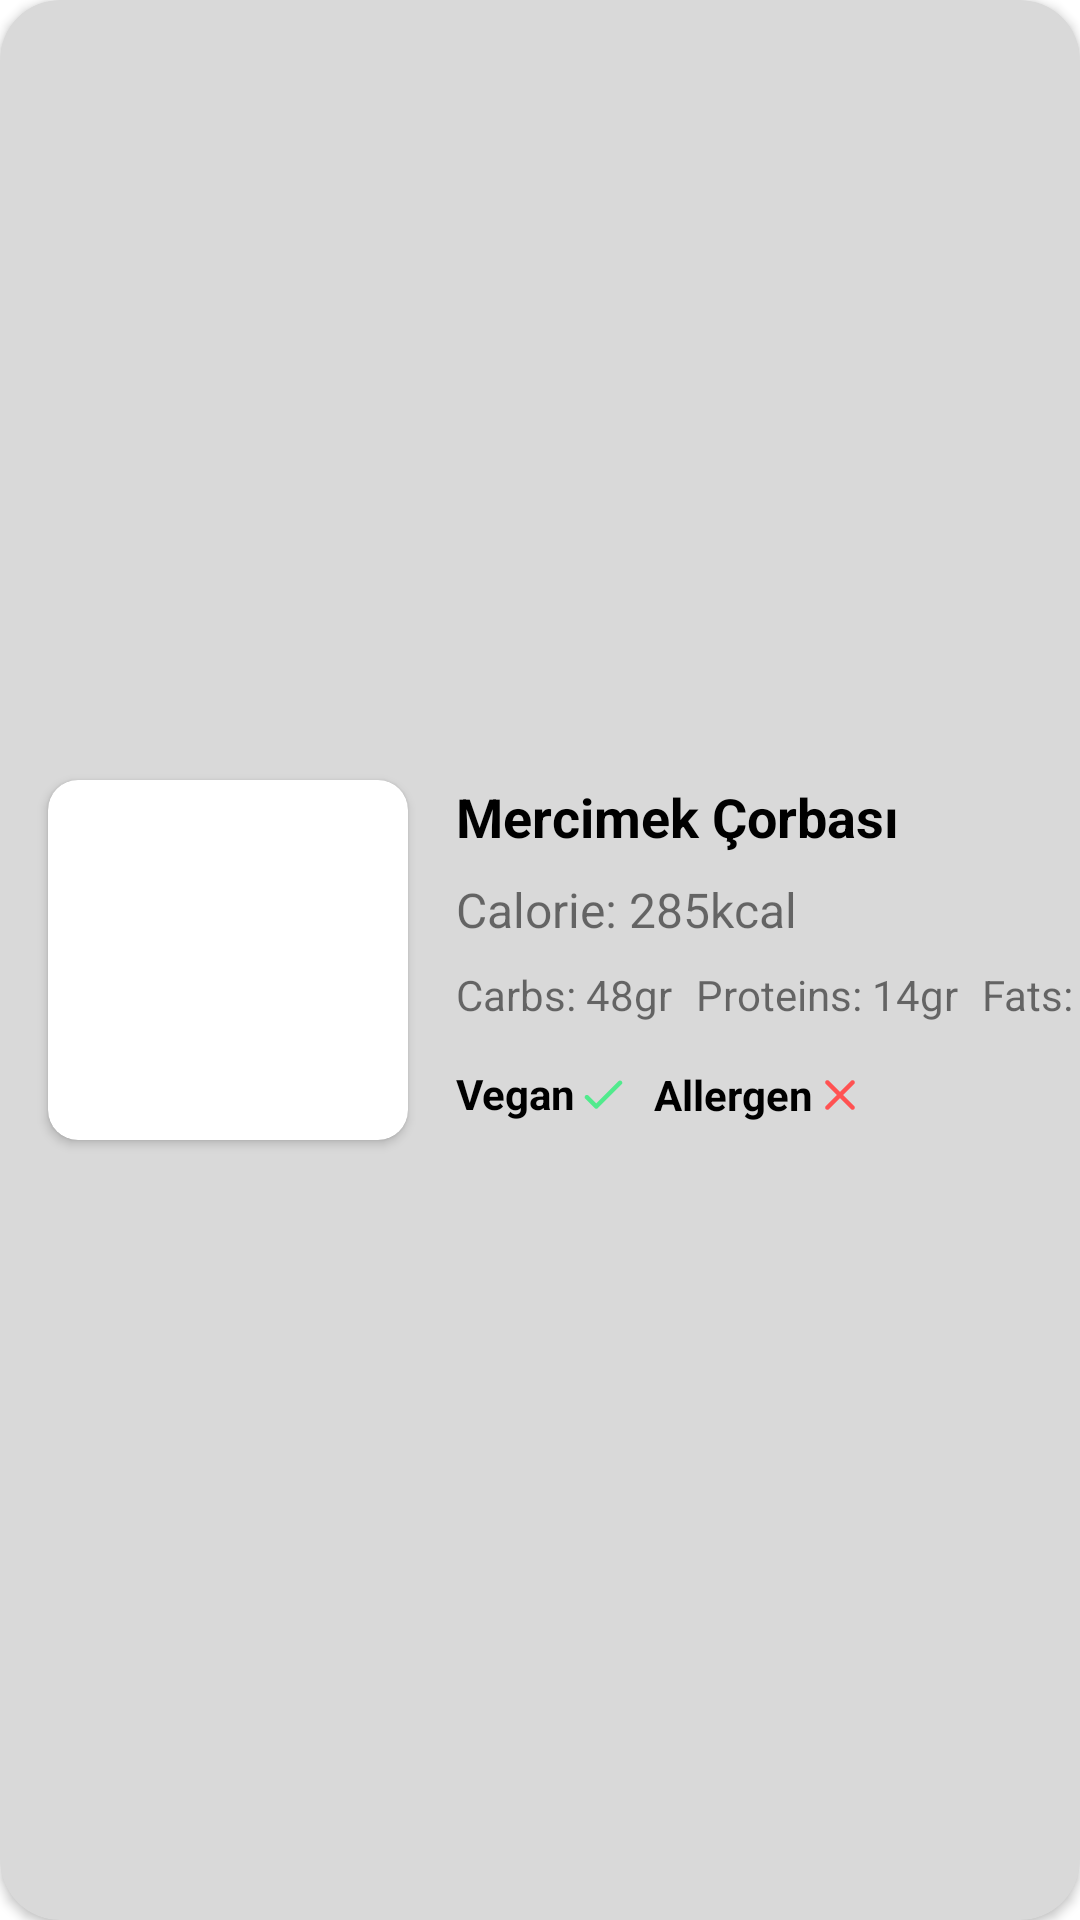

Named icons in this screenshot (1080px×1920px) and their centers, point (x, y):
check: point (603, 1094)
close: point (840, 1095)
